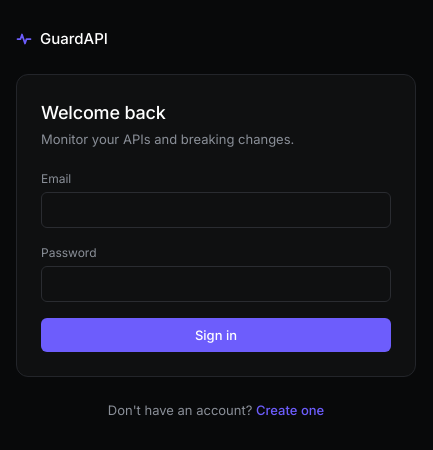
Test: LoginPage › shows the server error message on invalid credentials
The image size is (433, 450).
Type "a@b.com" into the field labelled "Email".
click(216, 210); type("a@b.com")  # box [41, 192, 391, 228]
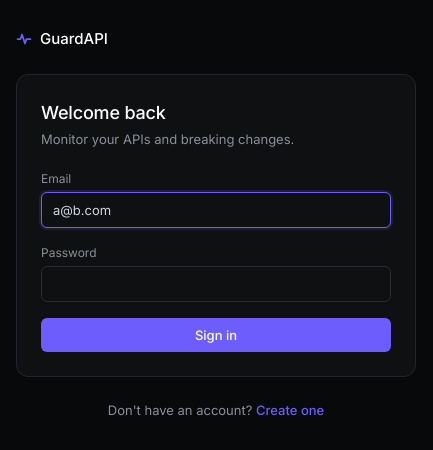
Type "wrong-password" into the password field labelled "Password".
click(216, 284); type("wrong-password")  # box [41, 266, 391, 302]
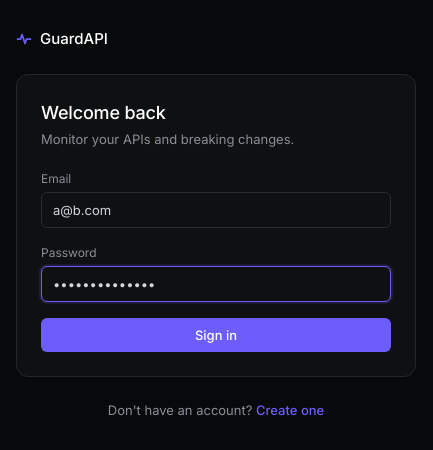
Click the button "Sign in".
click(216, 335)  # box [41, 318, 391, 352]
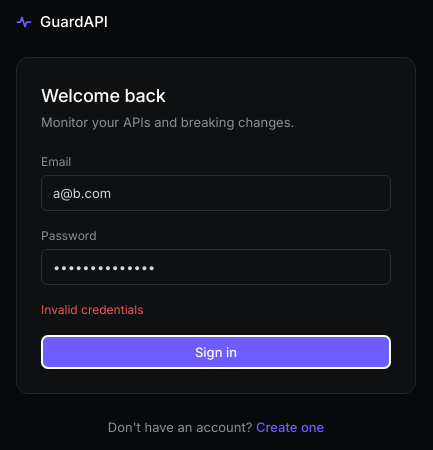
Expected: the message reads "Invalid credentials", [41, 302, 144, 317]
